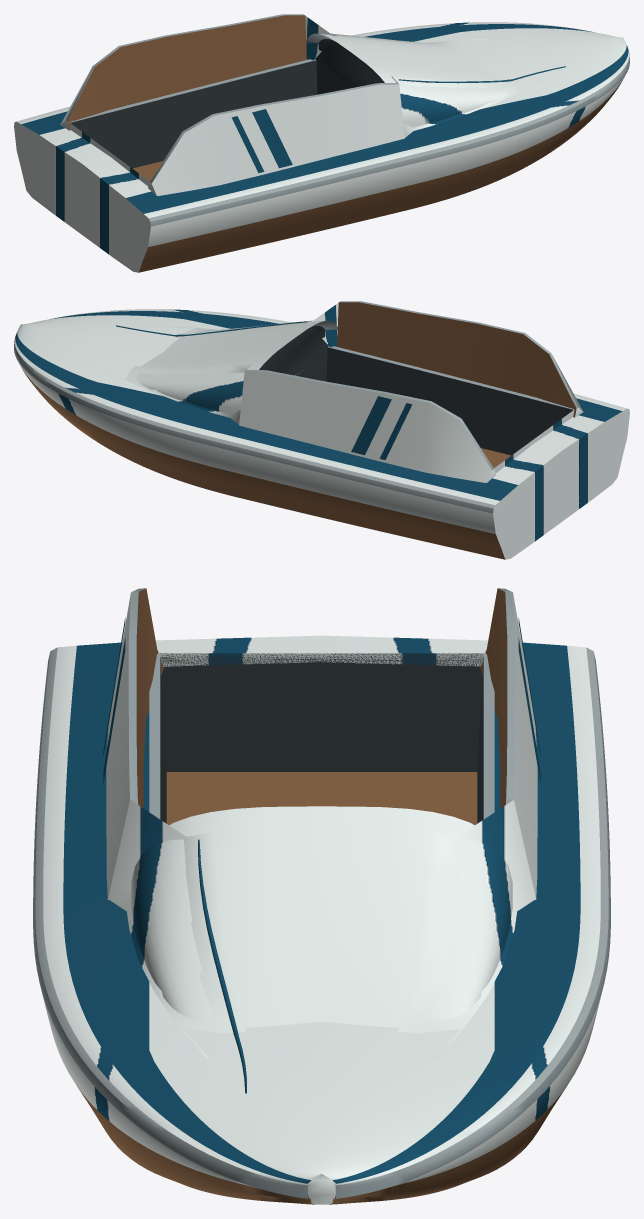
File: Hull_03_N_水線・藍白.glb
3 views of the same model, one above another, from view 1: azimuth 30°, elevation 25°; view 2: azimuth 150°, elevation 25°; view 3: azimuth 270°, elevation 25° (orthographic). The views are drawn at different scales.
Visible parts, largest first — view 1: Hull_03_N; view 2: Hull_03_N; view 3: Hull_03_N.
Boxes of the visible parts, bbox=[...] form: Hull_03_N: bbox=[14, 14, 629, 272]; Hull_03_N: bbox=[14, 301, 629, 559]; Hull_03_N: bbox=[33, 588, 610, 1204].
Size of the model in its own units: 2.9 by 0.6856 by 1.34.
4 materials, 4 textured.
